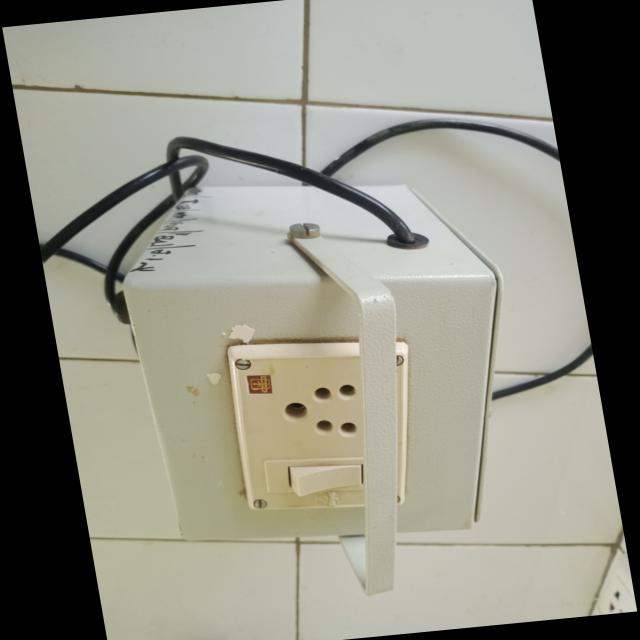Auto Variac AC Transformer 0-280 V: (99, 159, 542, 610)
